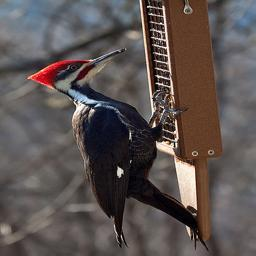Woodpecker: (25, 47, 209, 251)
